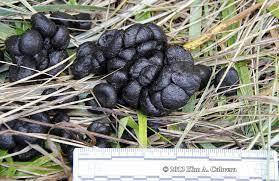Elk: (18, 26, 201, 108)
